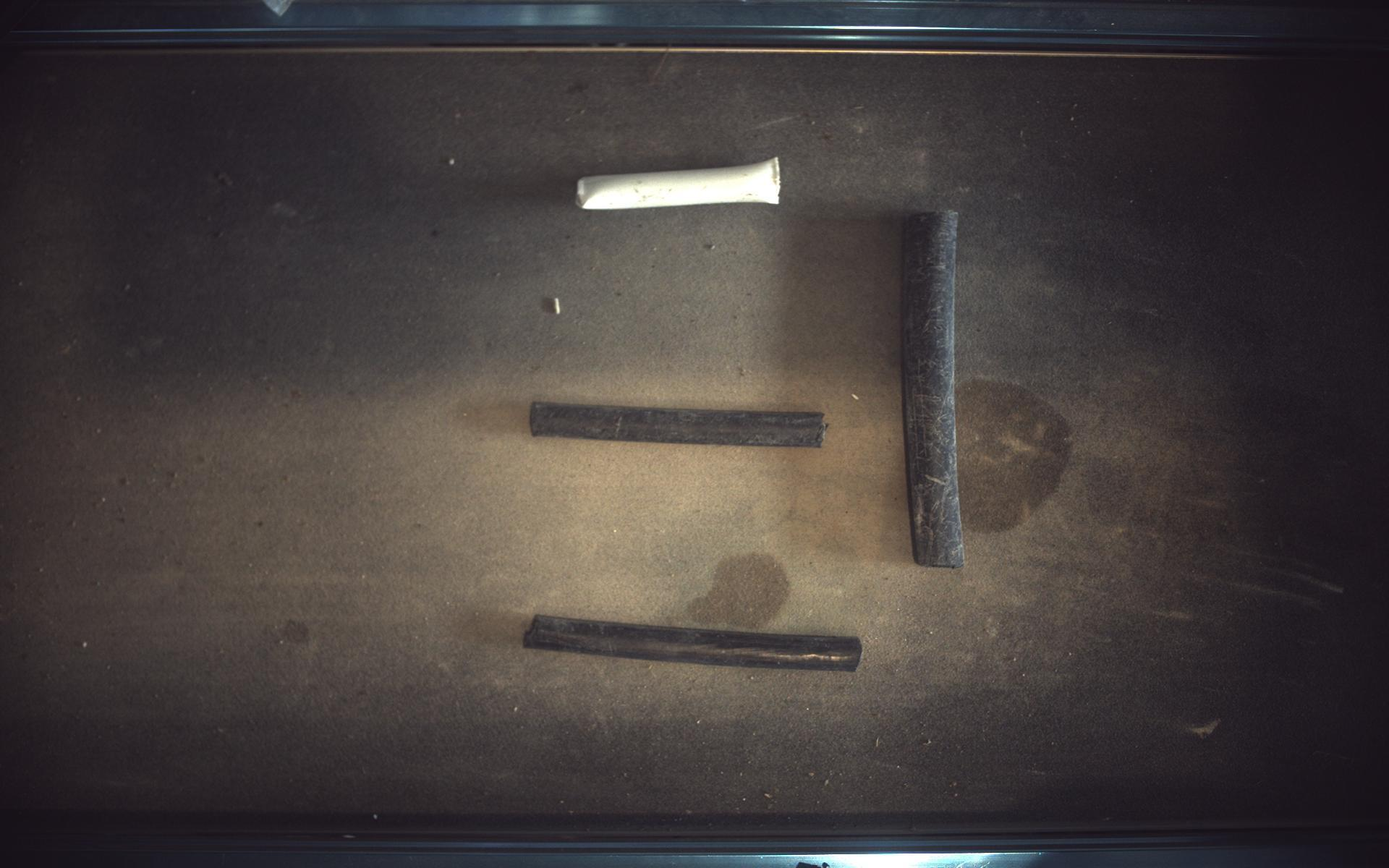pipes: (904, 210, 966, 568), (524, 616, 863, 672), (530, 402, 828, 448), (579, 157, 781, 209)
